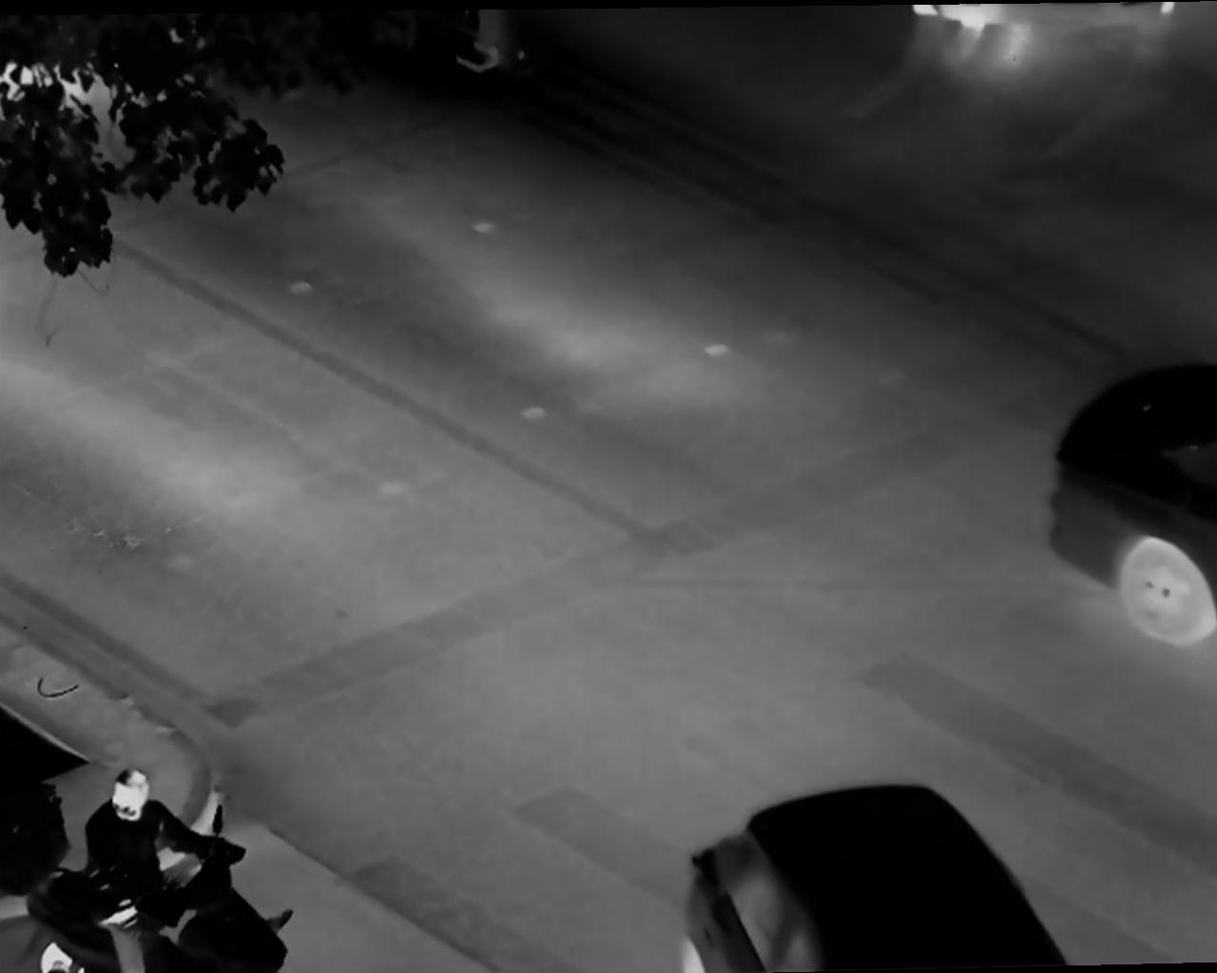person: (77, 765, 206, 973)
